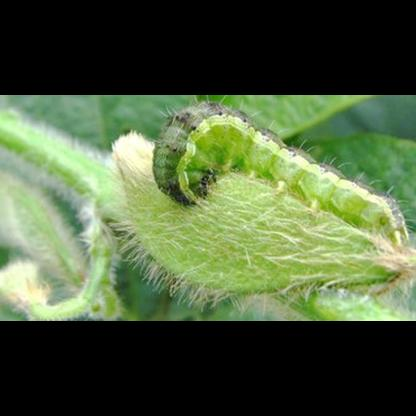oruga: (151, 98, 407, 248)
